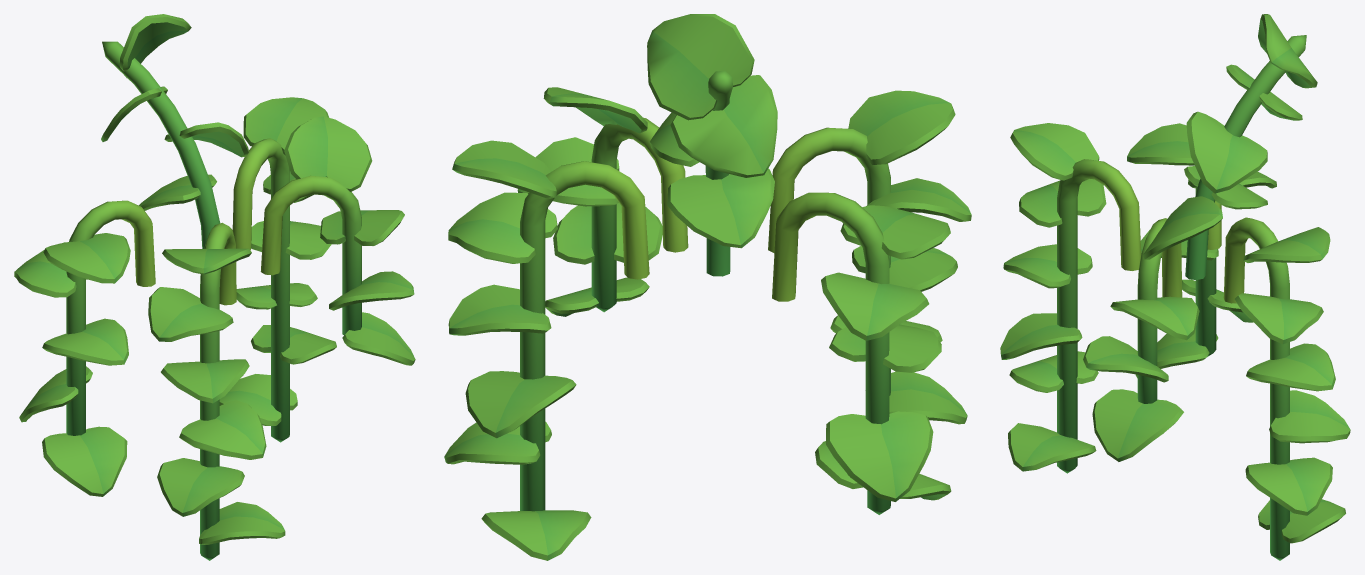
The model's file is Pothos Plant Medium.glb.
3 renders of one model, left to right at view 1: azimuth 30°, elevation 25°; view 2: azimuth 150°, elevation 25°; view 3: azimuth 270°, elevation 25°, orthographic. The views are drawn at different scales.
Parts seen in each view (by area): view 1: pothos_plant_medium; view 2: pothos_plant_medium; view 3: pothos_plant_medium.
Boxes of the visible parts, left/top/right/bottom form: pothos_plant_medium: left=14, top=14, right=415, bottom=560; pothos_plant_medium: left=444, top=14, right=971, bottom=560; pothos_plant_medium: left=1000, top=14, right=1350, bottom=560.
Bounding box in the file's own units: 1.62 × 2.05 × 1.37.
1 material, 1 textured.
